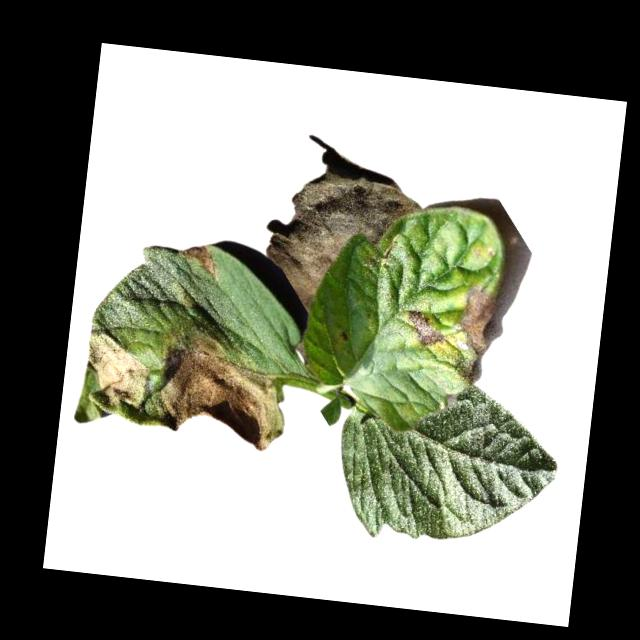Late_blight: (259, 167, 423, 324), (148, 315, 294, 453), (80, 329, 153, 414), (449, 280, 497, 358), (403, 308, 447, 348), (178, 241, 221, 278), (452, 355, 475, 382), (337, 328, 351, 343)
healthy: (329, 370, 566, 555)
